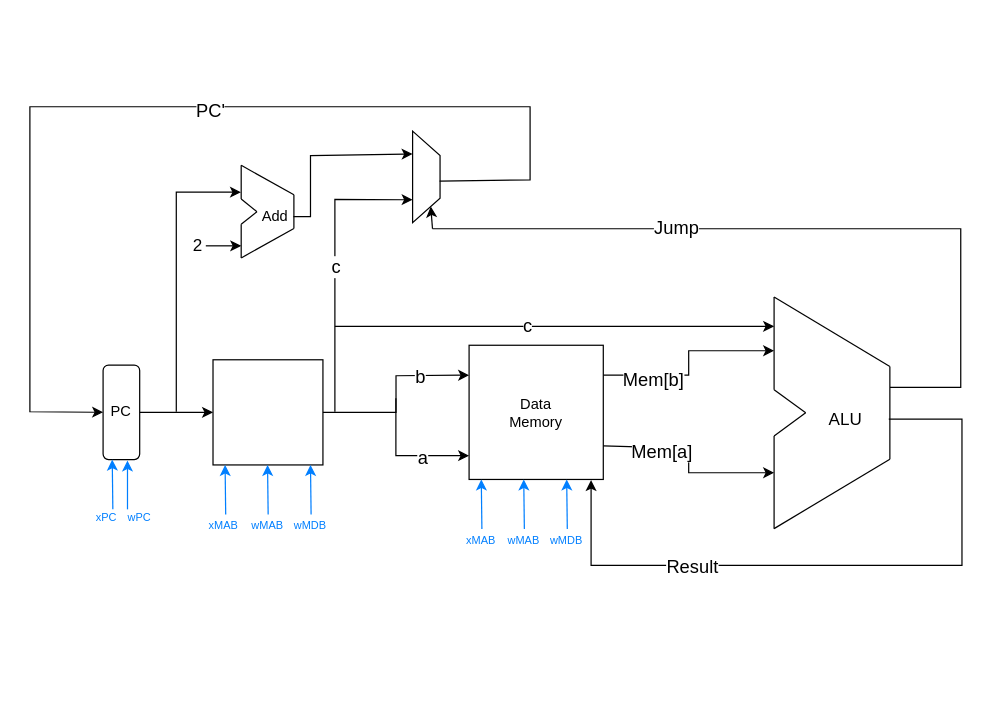
The diagram is 993 pixels wide and 725 high, and some of its shapes have lost their labels. The shapes that lost their labels are listed below. From the top down, each one's box as (x1, y1, x2, y2) in pixels, then its label:
(411, 130, 440, 223): M U X
(212, 359, 323, 465): Instruction Memory
